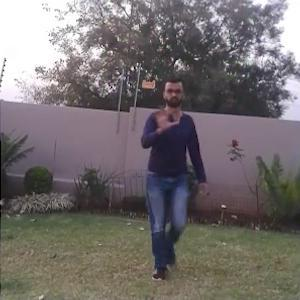follow_hand: (150, 98, 179, 134)
